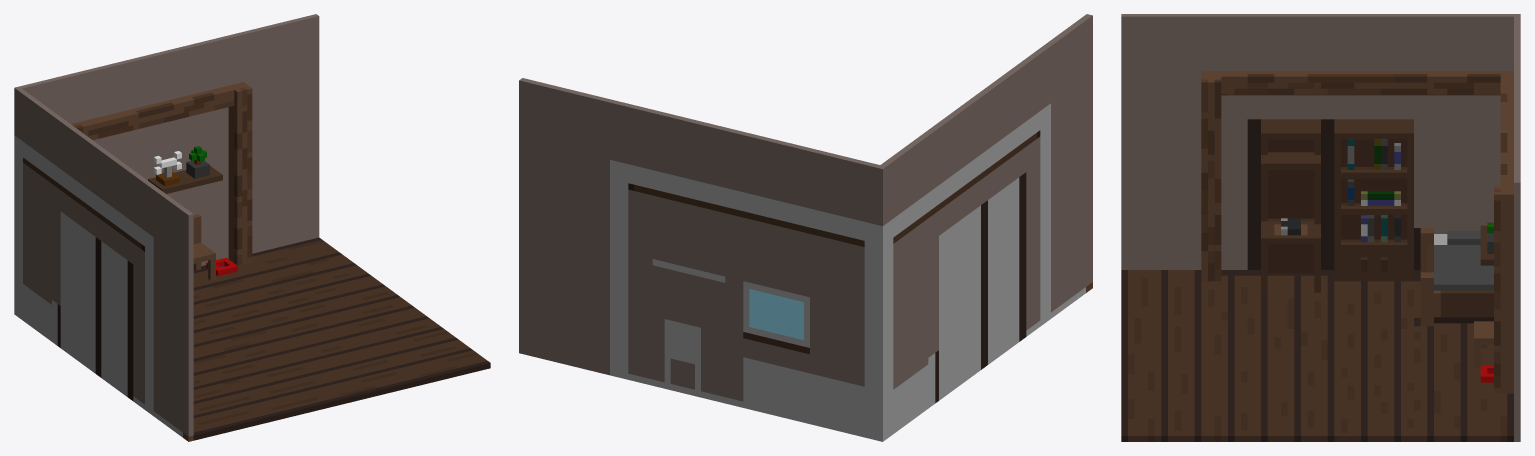
The model's file is main.obj.
3 renders of one model, left to right at view 1: azimuth 30°, elevation 25°; view 2: azimuth 150°, elevation 25°; view 3: azimuth 270°, elevation 25°, orthographic. The views are drawn at different scales.
Size of the model in its own units: 6 by 4.3 by 6.
1 material, 1 textured.
